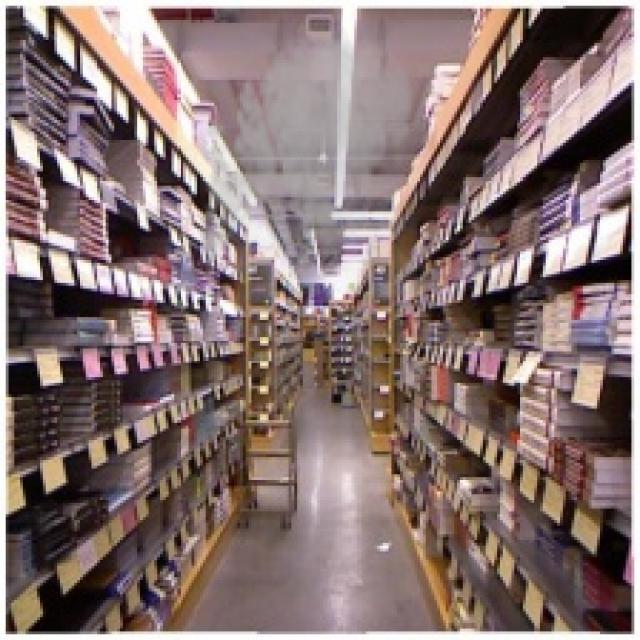Smoke: (191, 17, 420, 294)
